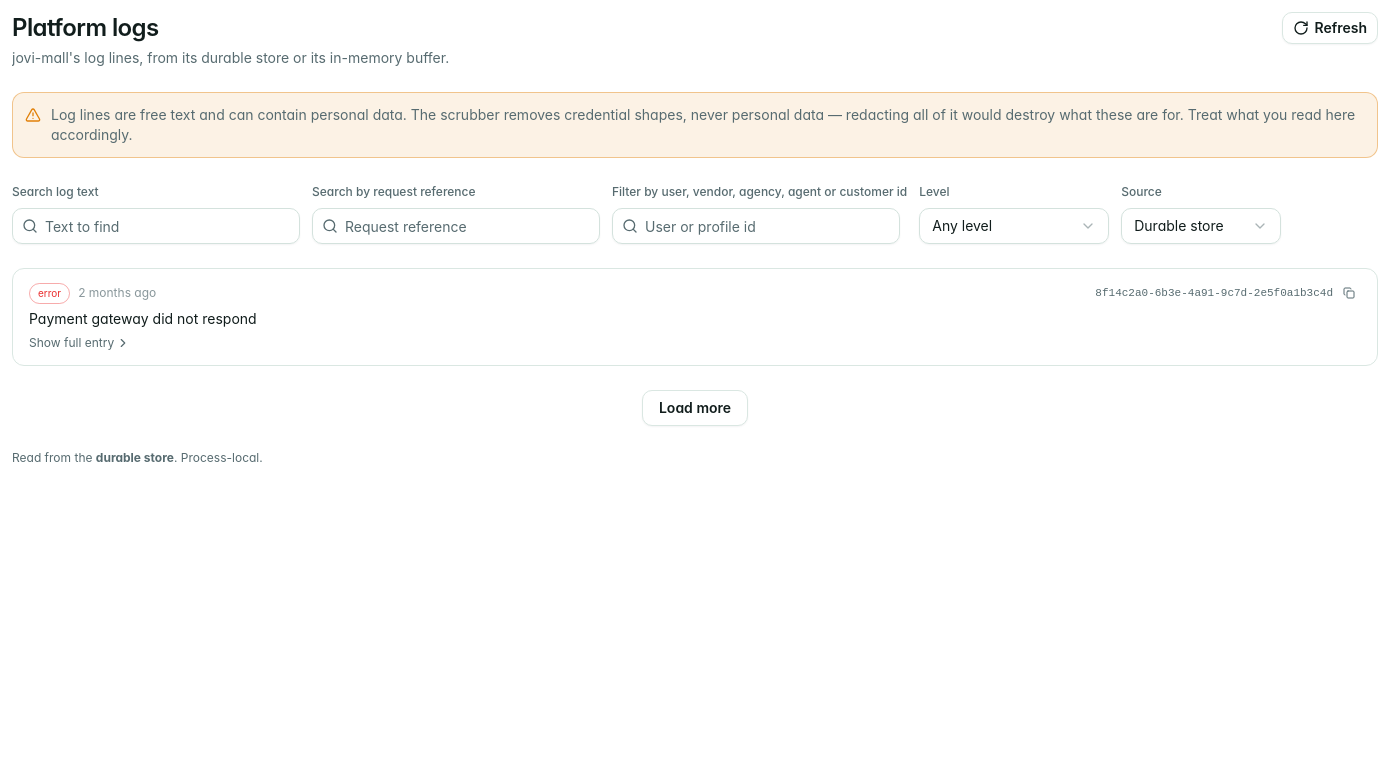
Test case: Platform logs › never sends a half-typed id — the service would answer 400
Expected: the text "free text" is shown, top-left (51, 106), bottom-right (407, 123)
Type "abc123" into the search field labelled "Filter by user, vendor, agency, agent or customer id" at (756, 226), box top-left (612, 208), bottom-right (900, 244)
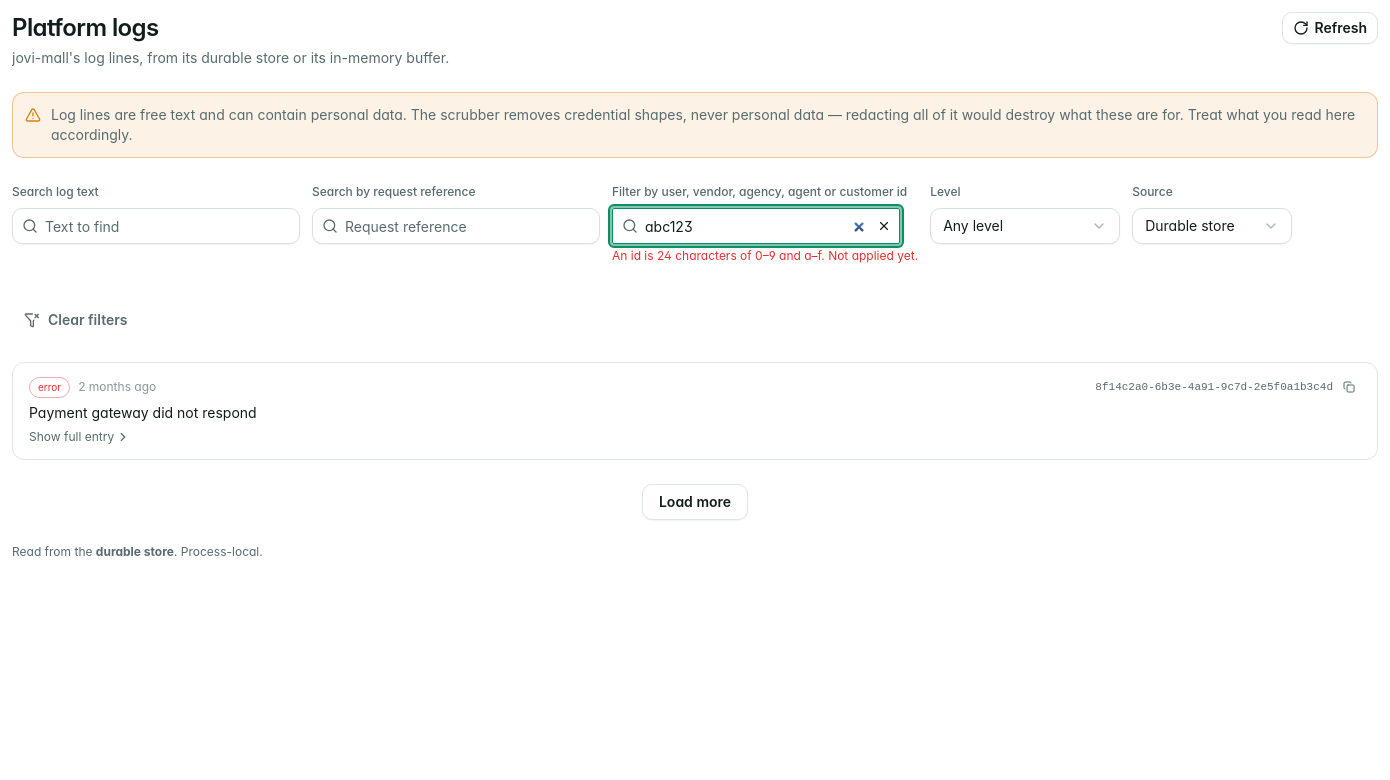
Expected: the text "An id is 24 characters of 0–9 and a–f. Not applied yet." is shown, top-left (612, 248), bottom-right (918, 264)
